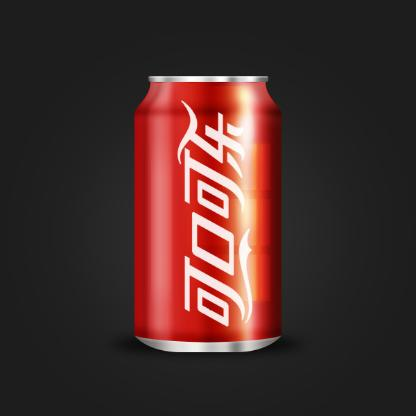Can: (135, 76, 281, 352)
